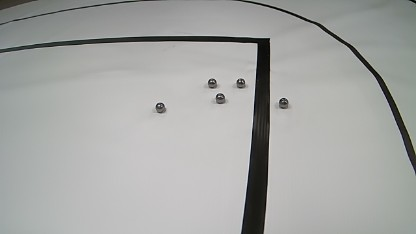ironball: (215, 93, 225, 104), (278, 98, 288, 109), (155, 102, 165, 113), (208, 78, 217, 88), (236, 78, 245, 88)
